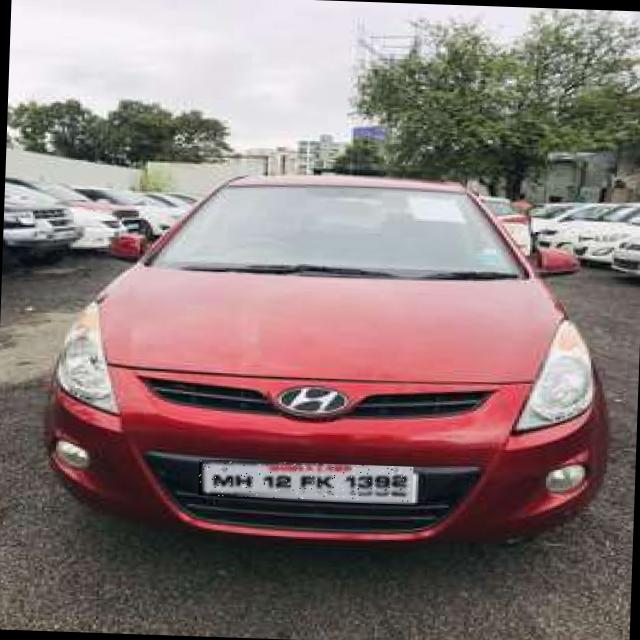Plate: (200, 460, 415, 503)
